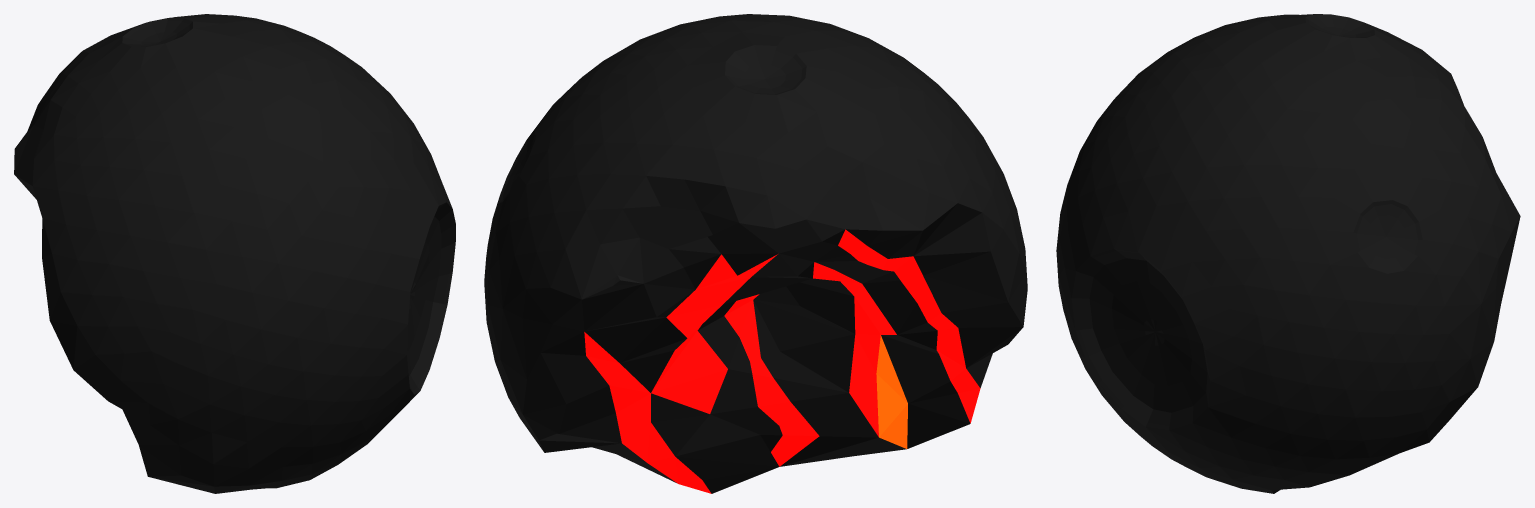
Rendered from Planet14.glb.
The picture shows the model from 3 angles, left to right: view 1: azimuth 30°, elevation 25°; view 2: azimuth 150°, elevation 25°; view 3: azimuth 270°, elevation 25°; orthographic projection. The views are drawn at different scales.
Parts seen in each view (by area): view 1: Planet4-main; view 2: Planet4-main; view 3: Planet4-main.
Part boxes in pixels (x1=…): Planet4-main: x1=14, y1=14, x2=455, y2=493; Planet4-main: x1=484, y1=14, x2=1027, y2=493; Planet4-main: x1=1056, y1=14, x2=1520, y2=493.
Size of the model in its own units: 9.58 by 9.83 by 9.65.
